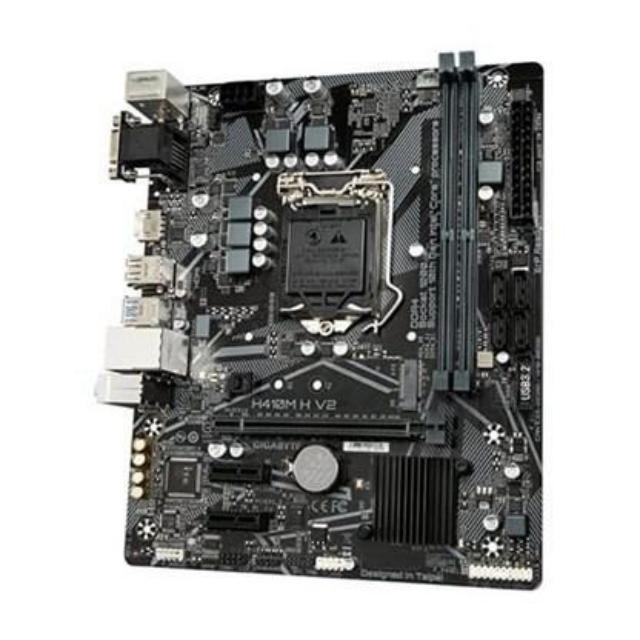Mainboard: (102, 67, 553, 596)
